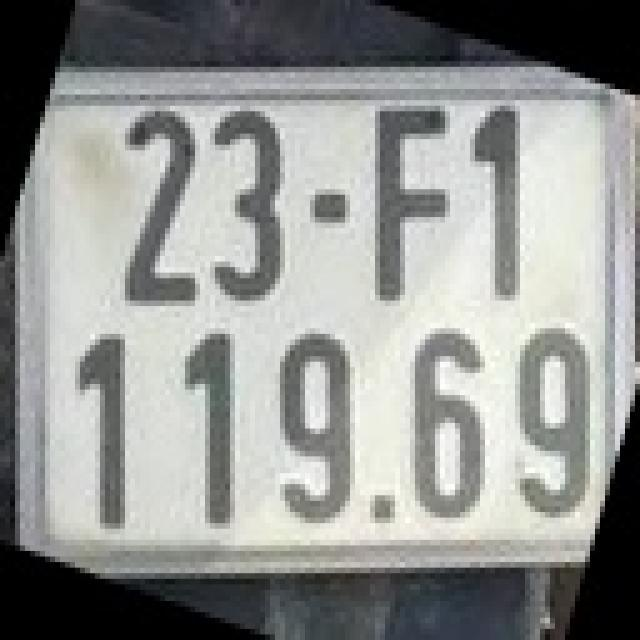1: (70, 328, 150, 529), (175, 328, 250, 529), (465, 100, 535, 301)
2: (115, 100, 200, 306)
3: (210, 106, 290, 300)
6: (405, 322, 490, 524)
9: (270, 322, 360, 524), (510, 317, 595, 518)
F: (365, 94, 455, 300)
